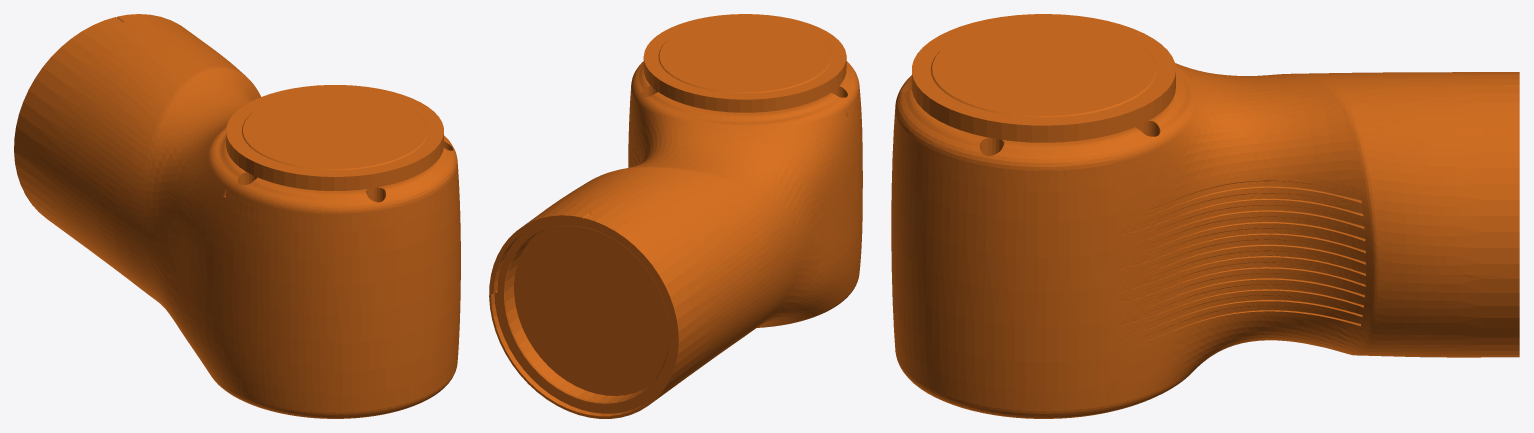
3 renders of one model, left to right at view 1: azimuth 30°, elevation 25°; view 2: azimuth 150°, elevation 25°; view 3: azimuth 270°, elevation 25°, orthographic. The views are drawn at different scales.
Parts seen in each view (by area): view 1: AR5-5_08L-W4C4A6-ZY2_link3.001; view 2: AR5-5_08L-W4C4A6-ZY2_link3.001; view 3: AR5-5_08L-W4C4A6-ZY2_link3.001.
Boxes of the visible parts, x1=… form: AR5-5_08L-W4C4A6-ZY2_link3.001: x1=14, y1=14, x2=460, y2=418; AR5-5_08L-W4C4A6-ZY2_link3.001: x1=489, y1=14, x2=862, y2=418; AR5-5_08L-W4C4A6-ZY2_link3.001: x1=891, y1=14, x2=1519, y2=418.
Bounding box in the file's own units: 0.1102 × 0.1116 × 0.2113.
